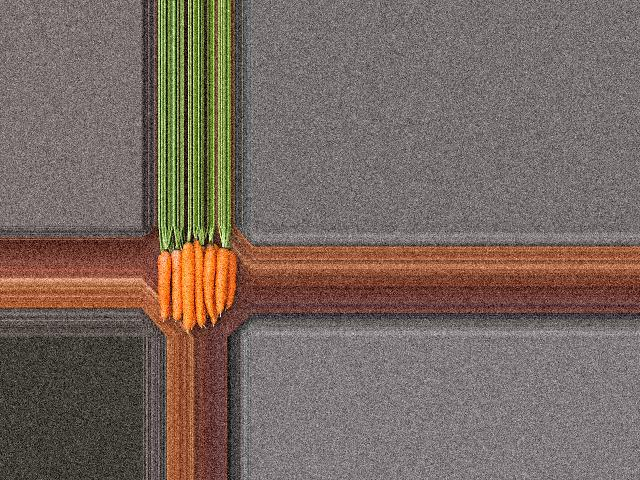carrot: (223, 248, 241, 317)
